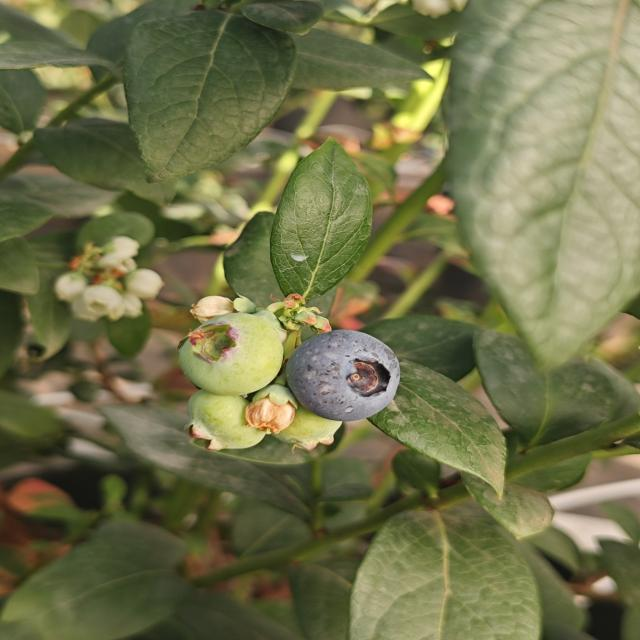ripe: (283, 328, 403, 423)
